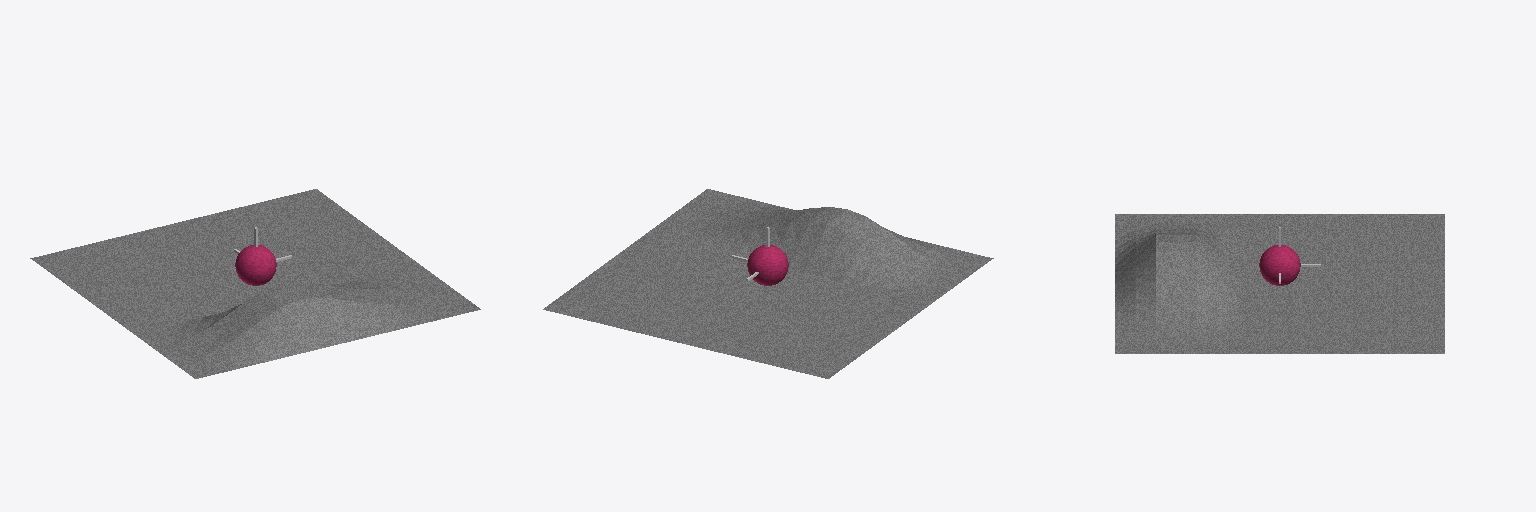
3 views of the same model, side by side, from view 1: azimuth 30°, elevation 25°; view 2: azimuth 150°, elevation 25°; view 3: azimuth 270°, elevation 25° (orthographic).
Visible parts, largest first — view 1: Plane.001, Sphere; view 2: Plane.001, Sphere; view 3: Plane.001, Sphere.
Boxes of the visible parts, x1=… form: Plane.001: x1=30, y1=189, x2=480, y2=378; Sphere: x1=235, y1=245, x2=276, y2=285; Plane.001: x1=543, y1=189, x2=993, y2=378; Sphere: x1=747, y1=245, x2=788, y2=285; Plane.001: x1=1115, y1=214, x2=1444, y2=353; Sphere: x1=1259, y1=245, x2=1300, y2=285.
Size of the model in its own units: 16 by 3 by 16.
Materials: 3 (2 with a texture image).